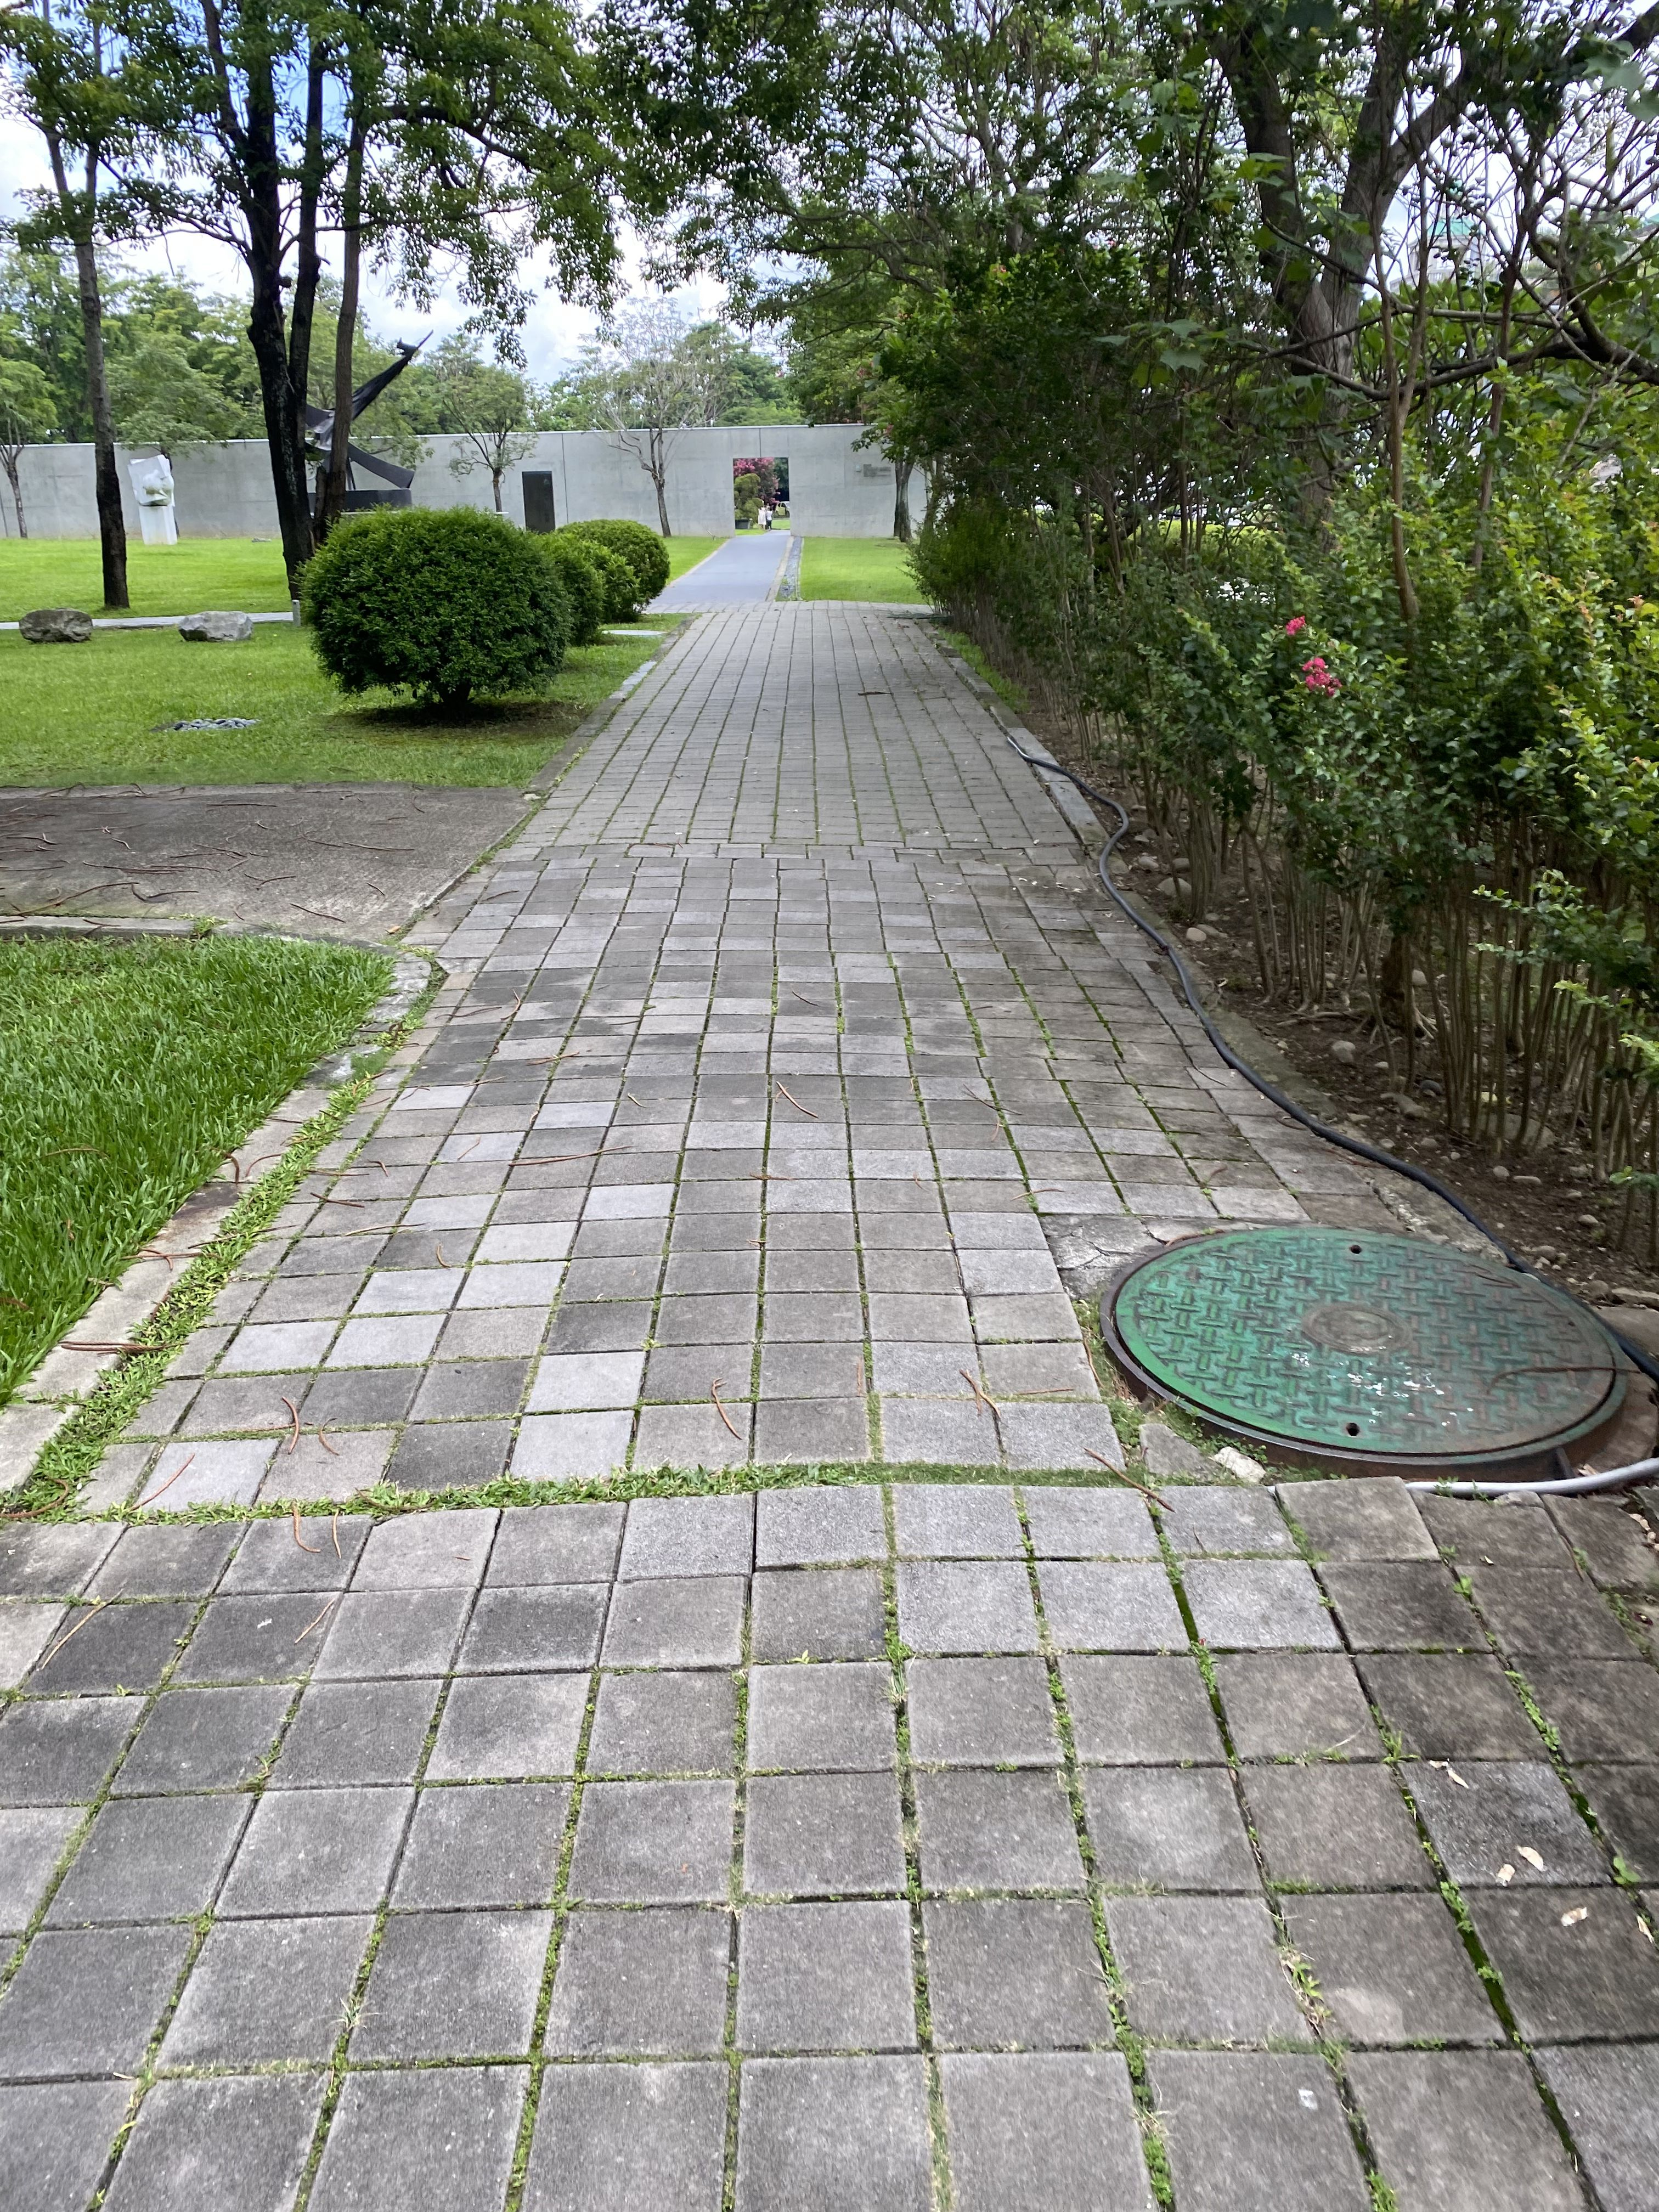0: (586, 507, 1098, 846)
sidewalk: (3, 777, 1659, 2205)
